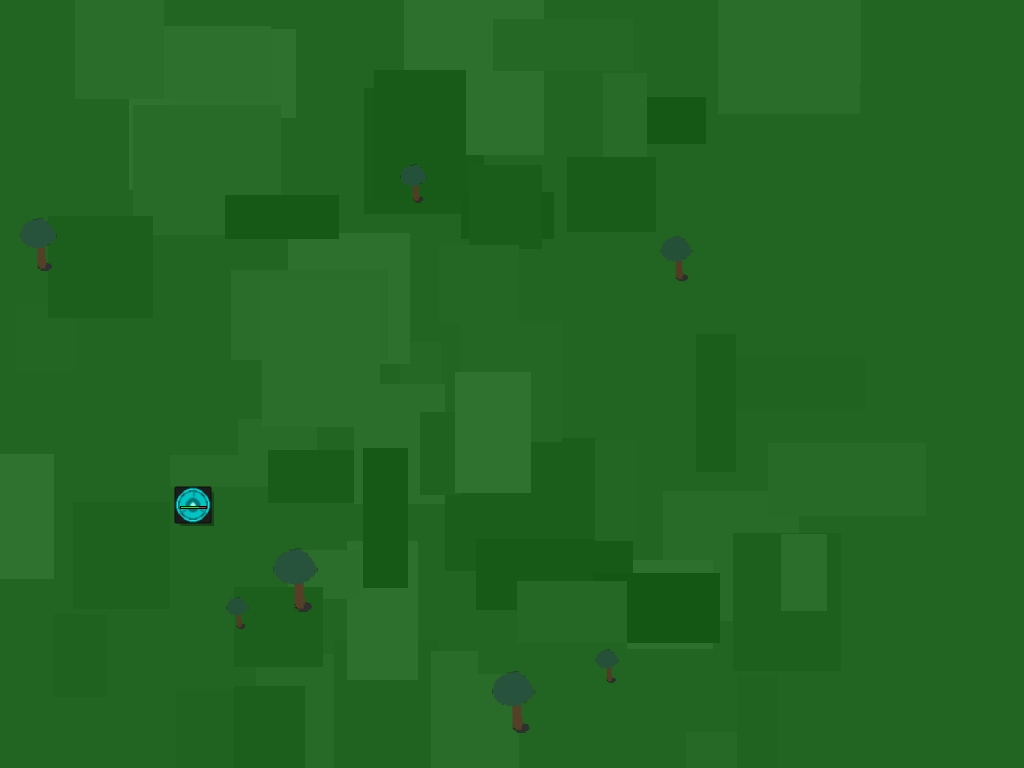LaserTurret: (164, 477, 221, 534)
